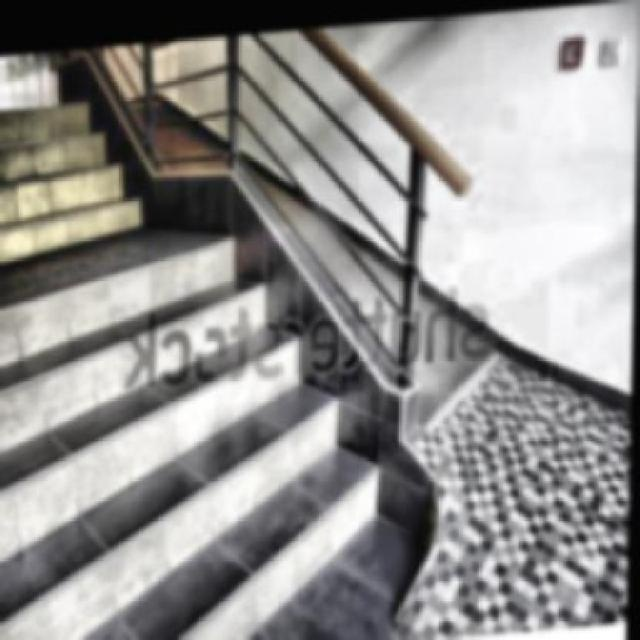stair: (2, 140, 429, 638)
